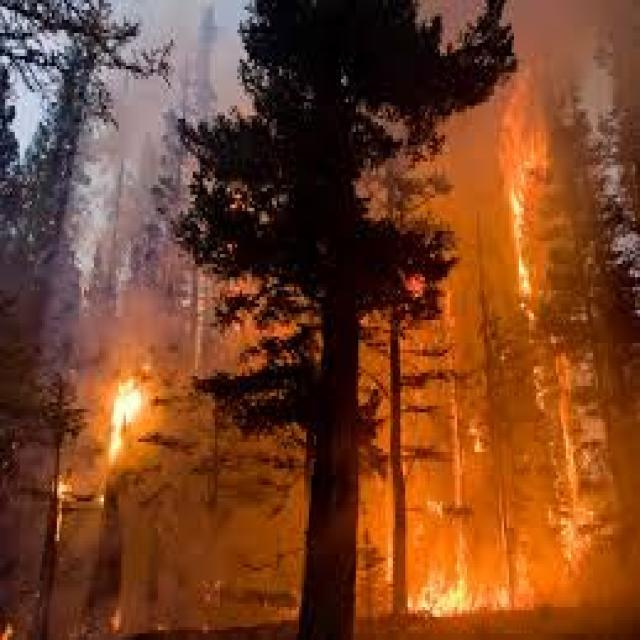Fire: (507, 76, 602, 586), (396, 543, 532, 626), (102, 354, 143, 478), (460, 412, 504, 472), (412, 489, 463, 527), (193, 573, 220, 640), (101, 594, 136, 640), (55, 464, 68, 556)
Smoke: (66, 6, 216, 360)
